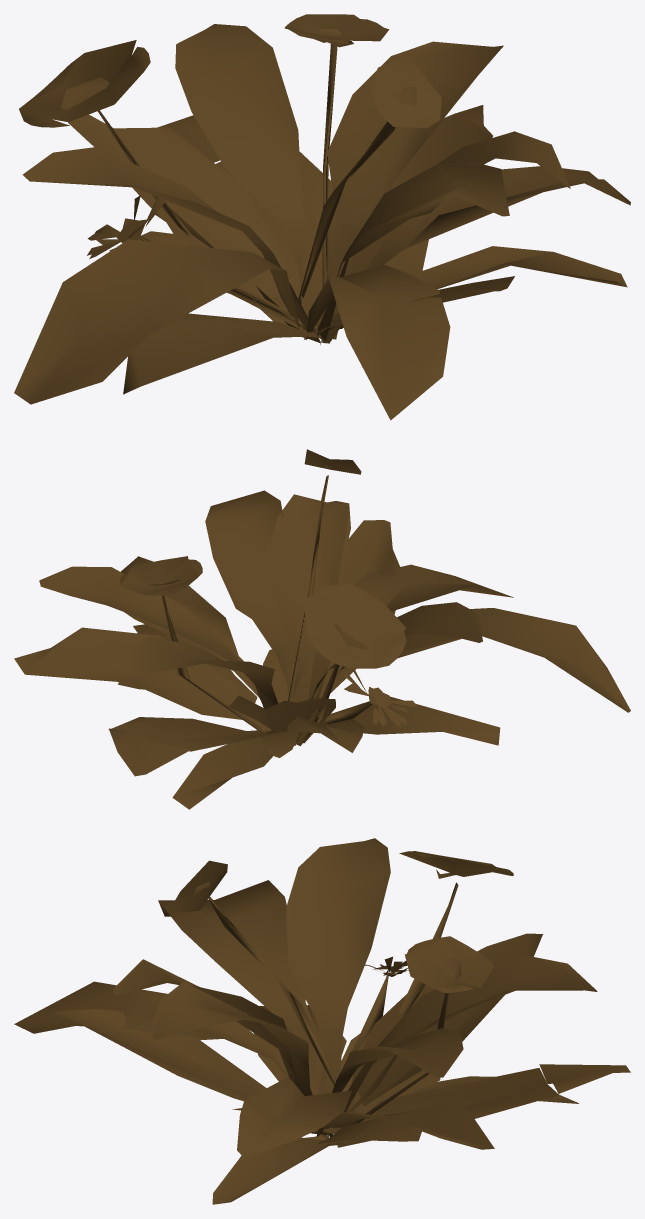
The model's file is flower-gazania-lod1.glb.
3 renders of one model, top to bottom at view 1: azimuth 30°, elevation 25°; view 2: azimuth 150°, elevation 25°; view 3: azimuth 270°, elevation 25°, orthographic. The views are drawn at different scales.
Visible parts, largest first — view 1: flower-gazania; view 2: flower-gazania; view 3: flower-gazania.
Part boxes in pixels (x1,y1,x2,y2): flower-gazania: (14, 14, 630, 420); flower-gazania: (14, 449, 630, 809); flower-gazania: (14, 838, 630, 1204).
Size of the model in its own units: 0.8204 by 0.4009 by 0.7951.
